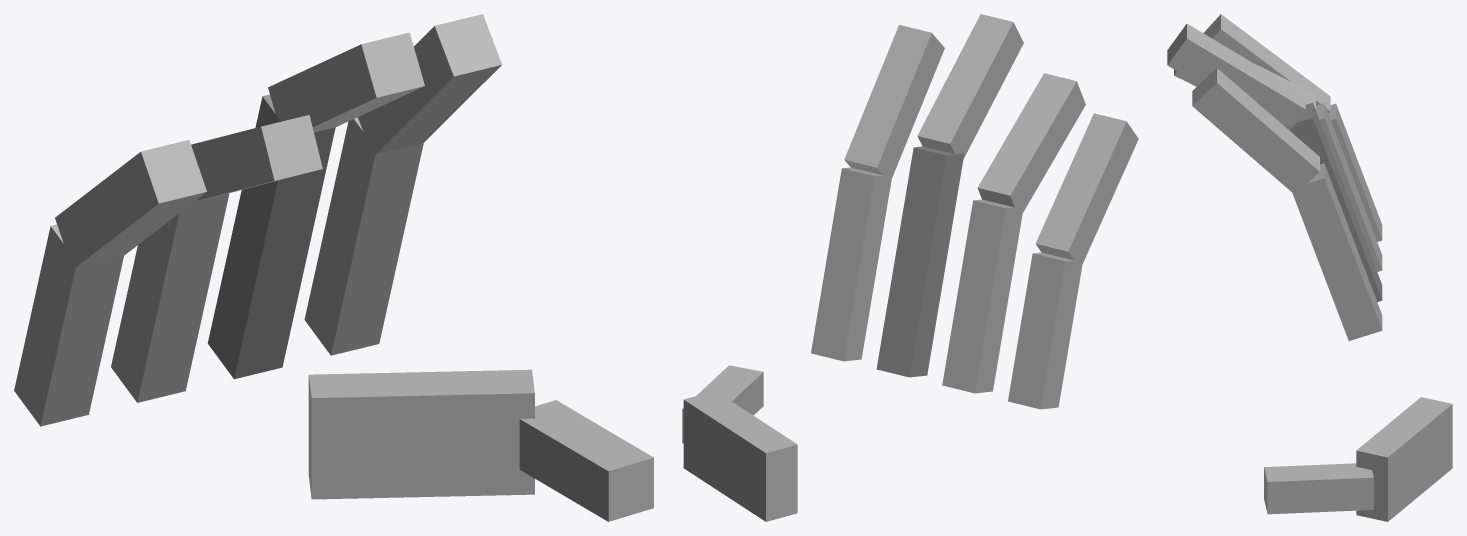
Rendered from powerfist_digits_fire.obj.
The picture shows the model from 3 angles, left to right: view 1: azimuth 30°, elevation 25°; view 2: azimuth 150°, elevation 25°; view 3: azimuth 270°, elevation 25°; orthographic projection. The views are drawn at different scales.
Visible parts, largest first — view 1: index2, thumb2, pinky2, ringfinger2, middlefinger2, index1, middlefinger1, thumb1, pinky1, ringfinger1; view 2: pinky2, index2, thumb2, ringfinger2, middlefinger2, thumb1, middlefinger1, pinky1, ringfinger1, index1; view 3: index2, thumb2, thumb1, pinky1, index1, pinky2, middlefinger1, ringfinger2, middlefinger2, ringfinger1.
Boxes of the visible parts, x1=… form: index2: x1=308, y1=369, x2=534, y2=499; thumb2: x1=304, y1=117, x2=423, y2=355; pinky2: x1=207, y1=94, x2=335, y2=379; ringfinger2: x1=111, y1=193, x2=229, y2=402; middlefinger2: x1=14, y1=224, x2=123, y2=426; index1: x1=519, y1=400, x2=653, y2=521; middlefinger1: x1=55, y1=140, x2=206, y2=269; thumb1: x1=358, y1=14, x2=502, y2=156; pinky1: x1=268, y1=32, x2=424, y2=132; ringfinger1: x1=191, y1=115, x2=322, y2=201; pinky2: x1=876, y1=146, x2=964, y2=377; index2: x1=683, y1=391, x2=797, y2=521; thumb2: x1=811, y1=167, x2=892, y2=361; ringfinger2: x1=942, y1=199, x2=1023, y2=393; middlefinger2: x1=1008, y1=252, x2=1082, y2=409; thumb1: x1=844, y1=25, x2=944, y2=177; middlefinger1: x1=1035, y1=113, x2=1138, y2=268; pinky1: x1=917, y1=14, x2=1023, y2=159; ringfinger1: x1=977, y1=73, x2=1085, y2=212; index1: x1=682, y1=365, x2=763, y2=443; index2: x1=1356, y1=397, x2=1452, y2=521; thumb2: x1=1292, y1=163, x2=1382, y2=340; thumb1: x1=1192, y1=68, x2=1319, y2=194; pinky1: x1=1167, y1=24, x2=1305, y2=130; index1: x1=1264, y1=463, x2=1373, y2=514; pinky2: x1=1286, y1=102, x2=1382, y2=301; middlefinger1: x1=1203, y1=14, x2=1330, y2=113; ringfinger2: x1=1315, y1=103, x2=1382, y2=271; middlefinger2: x1=1328, y1=103, x2=1382, y2=241; ringfinger1: x1=1174, y1=64, x2=1315, y2=109.
Size of the model in its own units: 0.7097 by 0.7681 by 0.5012.
